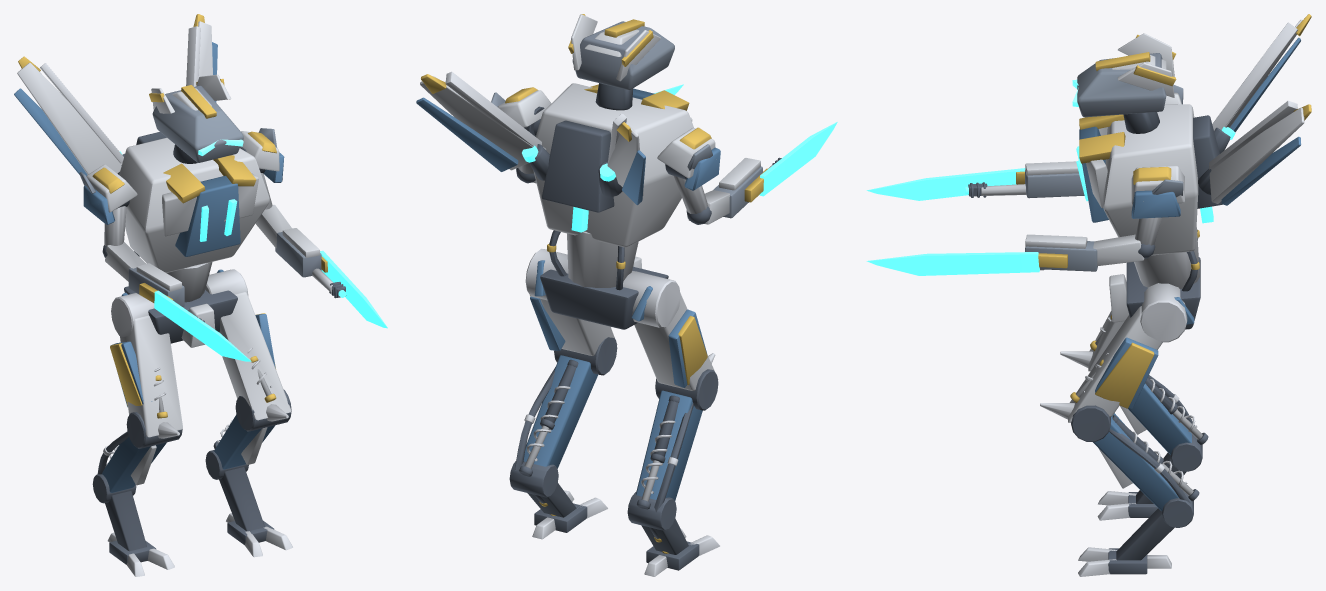
The model's file is vanguard_assassin.glb.
3 views of the same model, side by side, from view 1: azimuth 30°, elevation 25°; view 2: azimuth 150°, elevation 25°; view 3: azimuth 270°, elevation 25° (orthographic). The views are drawn at different scales.
Parts seen in each view (by area): view 1: BodyGroup_ArmorAlloy, RightThigh_ArmorAlloy, LeftThigh_ArmorAlloy, HeatVent_R_ArmorAlloy, HeadGroup_ArmorAlloy, RightArm_ArmorAlloy, LeftArm_ArmorAlloy, LeftFoot_ArmorAlloy, RightShin_ArmorAlloy, RightFoot_ArmorAlloy, LeftShin_ArmorAlloy, Pelvis_ArmorAlloy (+4 smaller); view 2: BodyGroup_ArmorAlloy, HeadGroup_ArmorAlloy, LeftShin_ArmorAlloy, RightThigh_ArmorAlloy, RightShin_ArmorAlloy, RightArm_ArmorAlloy, HeatVent_L_ArmorAlloy, Pelvis_ArmorAlloy, RightFoot_ArmorAlloy, LeftFoot_ArmorAlloy, LeftThigh_ArmorAlloy, HeatVent_R_ArmorAlloy (+3 smaller); view 3: BodyGroup_ArmorAlloy, LeftThigh_ArmorAlloy, LeftArm_ArmorAlloy, HeadGroup_ArmorAlloy, LeftShin_ArmorAlloy, HeatVent_L_ArmorAlloy, LeftFoot_ArmorAlloy, RightShin_ArmorAlloy, LeftArm_A2_CyanReactor, RightArm_ArmorAlloy, HeatVent_R_ArmorAlloy, RightArm_A2_CyanReactor (+3 smaller).
Boxes of the visible parts, <box> form: BodyGroup_ArmorAlloy: <box>118,132,269,302</box>; RightThigh_ArmorAlloy: <box>110,293,182,437</box>; LeftThigh_ArmorAlloy: <box>205,269,291,420</box>; HeatVent_R_ArmorAlloy: <box>14,56,123,175</box>; HeadGroup_ArmorAlloy: <box>149,74,243,163</box>; RightArm_ArmorAlloy: <box>79,164,204,322</box>; LeftArm_ArmorAlloy: <box>240,128,346,298</box>; LeftFoot_ArmorAlloy: <box>205,450,292,557</box>; RightShin_ArmorAlloy: <box>97,412,182,492</box>; RightFoot_ArmorAlloy: <box>92,474,174,576</box>; LeftShin_ArmorAlloy: <box>213,389,291,469</box>; Pelvis_ArmorAlloy: <box>121,269,237,347</box>; BodyGroup_ArmorAlloy: <box>529,83,693,290</box>; HeadGroup_ArmorAlloy: <box>568,14,674,110</box>; LeftShin_ArmorAlloy: <box>515,337,617,476</box>; RightThigh_ArmorAlloy: <box>623,271,718,390</box>; RightShin_ArmorAlloy: <box>636,353,718,512</box>; RightArm_ArmorAlloy: <box>657,127,781,224</box>; HeatVent_L_ArmorAlloy: <box>416,71,546,171</box>; Pelvis_ArmorAlloy: <box>534,256,668,329</box>; RightFoot_ArmorAlloy: <box>627,492,719,576</box>; LeftFoot_ArmorAlloy: <box>509,461,607,539</box>; LeftThigh_ArmorAlloy: <box>525,248,617,355</box>; HeatVent_R_ArmorAlloy: <box>607,113,645,205</box>; BodyGroup_ArmorAlloy: <box>1079,104,1230,291</box>; LeftThigh_ArmorAlloy: <box>1068,283,1187,422</box>; LeftArm_ArmorAlloy: <box>1025,165,1184,271</box>; HeadGroup_ArmorAlloy: <box>1077,33,1176,133</box>; LeftShin_ArmorAlloy: <box>1040,403,1199,510</box>; HeatVent_L_ArmorAlloy: <box>1209,100,1311,205</box>; LeftFoot_ArmorAlloy: <box>1078,489,1193,576</box>; RightShin_ArmorAlloy: <box>1060,351,1208,454</box>; LeftArm_A2_CyanReactor: <box>866,252,1039,275</box>; RightArm_ArmorAlloy: <box>968,84,1183,198</box>; HeatVent_R_ArmorAlloy: <box>1212,14,1311,132</box>; RightArm_A2_CyanReactor: <box>866,168,1025,200</box>.
Bounding box in the file's own units: 0.8602 × 1.87 × 1.54.
